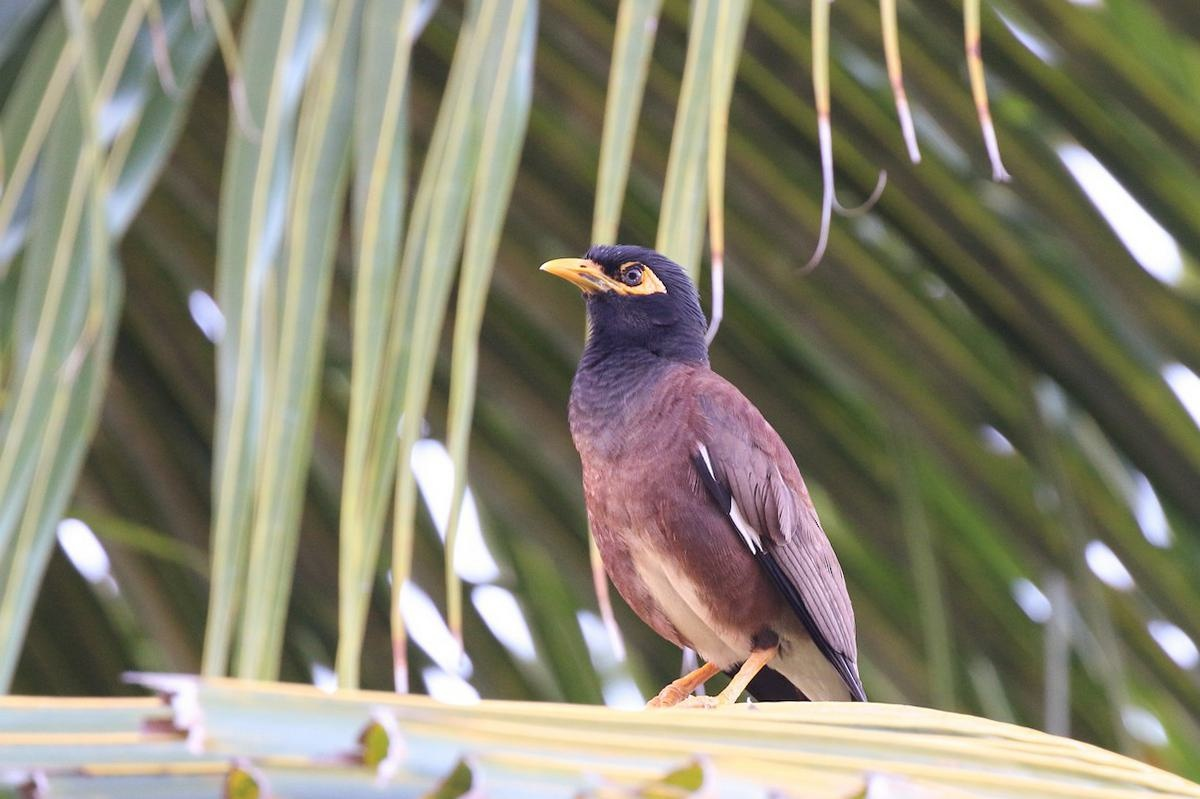myna: (527, 216, 904, 752)
